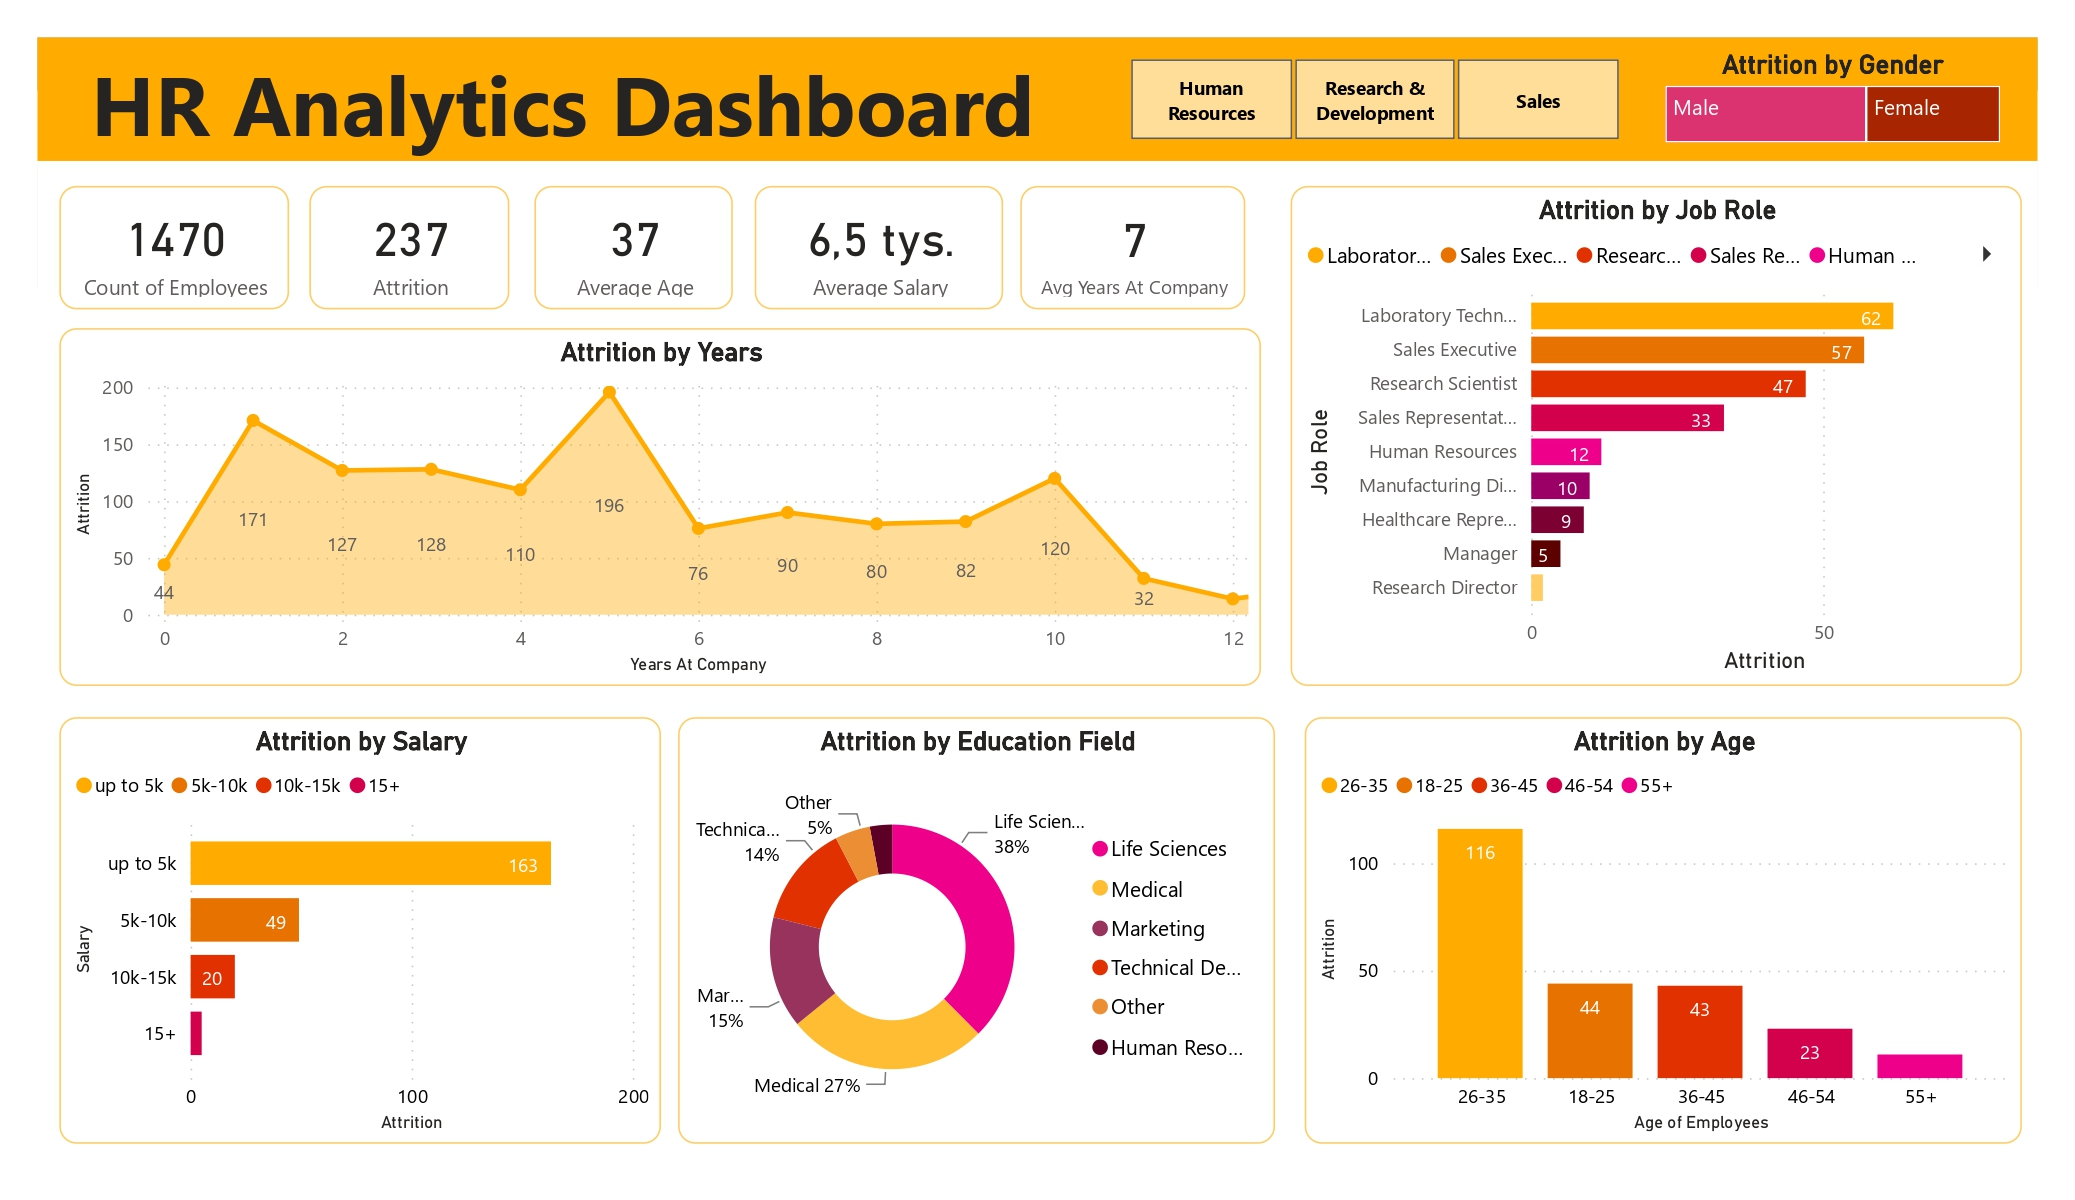

Layout of this report page (visuals, bound fields, positions):
{"tool":"powerbi","page":{"name":"Strona 1","canvas":[1280,720],"ordinal":0},"visuals":[{"type":"textbox","box":[0,0,1280.2,79.2],"z":0},{"type":"card","fields":{"Values":["Sum(HR_employee.EmployeeCount)"]},"box":[14.4,95,146.9,79.2],"z":1000},{"type":"card","fields":{"Values":["Avg(HR_employee.Age)"]},"box":[318.2,95,126.7,79.2],"z":2000},{"type":"card","fields":{"Values":["Sum(HR_employee.Attrition_num)"]},"box":[174.2,95,128.2,79.2],"z":3000},{"type":"card","fields":{"Values":["Avg(HR_employee.YearsAtCompany)"]},"box":[629.3,95,144,79.2],"z":4000},{"type":"columnChart","title":"Attrition by Age","fields":{"Category":["HR_employee.Age_num"],"Y":["Sum(HR_employee.Attrition_num)"],"Series":["HR_employee.Age_num"]},"box":[810.7,434.9,459.4,273.6],"z":5000},{"type":"barChart","title":"Attrition by Job Role","fields":{"Category":["HR_employee.JobRole"],"Y":["Sum(HR_employee.Attrition_num)"],"Series":["HR_employee.JobRole"]},"box":[802.1,95,468,319.7],"z":6000},{"type":"barChart","title":"Attrition by Salary ","fields":{"Y":["Sum(HR_employee.Attrition_num)"],"Category":["HR_employee.Salary"],"Series":["HR_employee.Salary"]},"box":[14.4,434.9,384.5,273.6],"z":7000},{"type":"donutChart","title":"Attrition by Education Field","fields":{"Y":["Sum(HR_employee.Attrition_num)"],"Category":["HR_employee.EducationField"]},"box":[410.4,434.9,381.6,273.6],"z":8000},{"type":"treemap","title":"Attrition by Gender","fields":{"Group":["HR_employee.Gender"],"Values":["CountNonNull(HR_employee.Gender)"]},"box":[1036.8,7.2,224.6,64.8],"z":9000},{"type":"stackedAreaChart","title":"Attrition by Years","fields":{"Category":["HR_employee.YearsAtCompany"],"Y":["CountNonNull(HR_employee.Attrition_num)"]},"box":[14.4,185.8,769,229],"z":10000},{"type":"card","fields":{"Values":["Avg(HR_employee.MonthlyIncome)"]},"box":[459.4,95,158.4,79.2],"z":11000},{"type":"slicer","fields":{"Values":["HR_employee.Department"]},"box":[673.9,7.2,362.9,64.8],"z":13000}]}

Visuals, with their boxes in screenshot pixels (x1, y1, x2, y2):
textbox: l=38, t=38, r=2038, b=161
card - Sum(HR_employee.EmployeeCount): l=60, t=186, r=290, b=310
card - Avg(HR_employee.Age): l=535, t=186, r=733, b=310
card - Sum(HR_employee.Attrition_num): l=310, t=186, r=510, b=310
card - Avg(HR_employee.YearsAtCompany): l=1021, t=186, r=1246, b=310
"Attrition by Age" columnChart: l=1304, t=717, r=2022, b=1145
"Attrition by Job Role" barChart: l=1291, t=186, r=2022, b=685
"Attrition by Salary " barChart: l=60, t=717, r=661, b=1145
"Attrition by Education Field" donutChart: l=679, t=717, r=1275, b=1145
"Attrition by Gender" treemap: l=1658, t=49, r=2008, b=150
"Attrition by Years" stackedAreaChart: l=60, t=328, r=1262, b=686
card - Avg(HR_employee.MonthlyIncome): l=755, t=186, r=1003, b=310
slicer - HR_employee.Department: l=1090, t=49, r=1658, b=150
